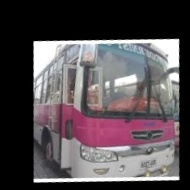bus: (19, 27, 190, 190)
